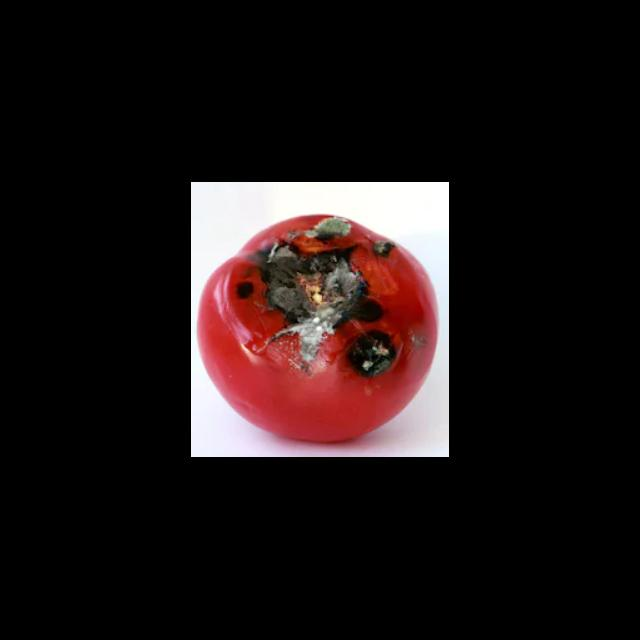tomato: (201, 205, 435, 434)
